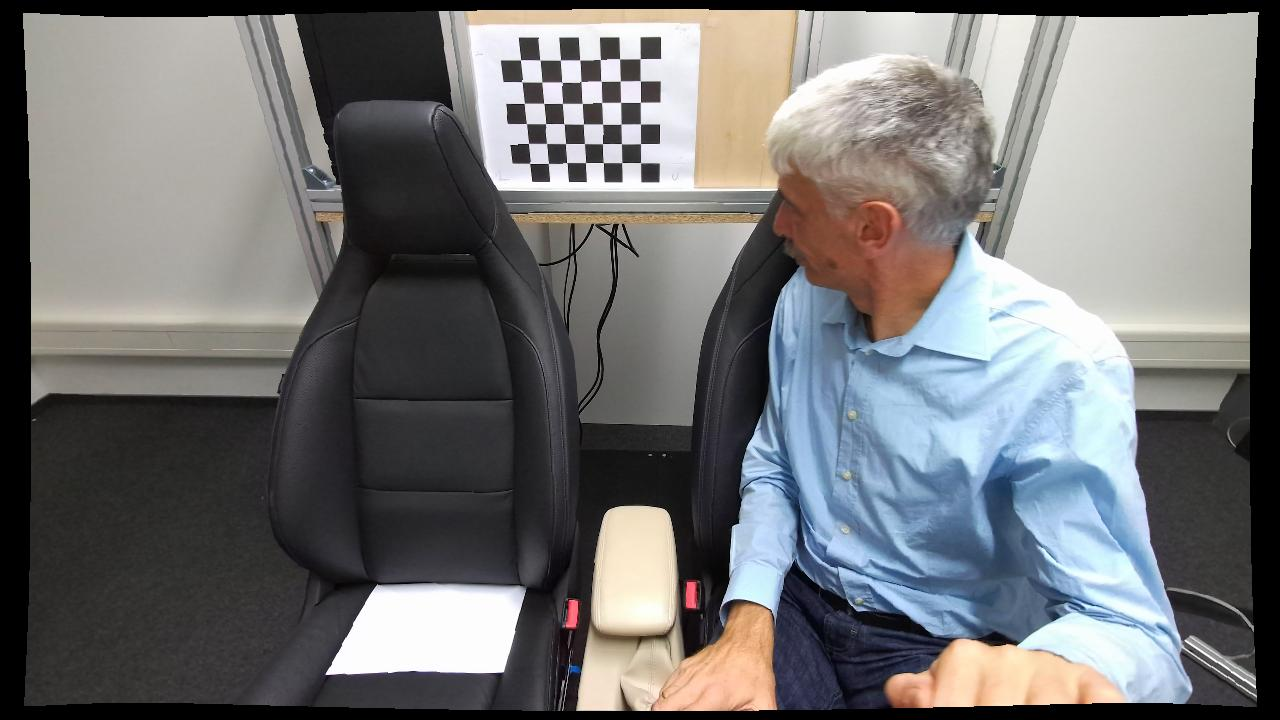Distracted: (686, 54, 1108, 714)
